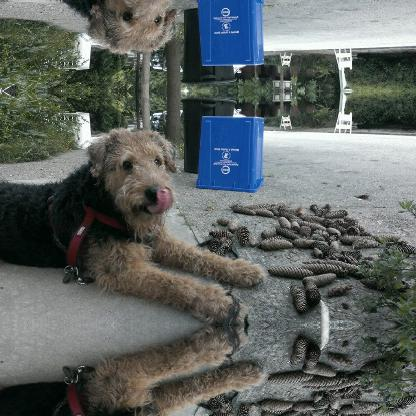Dog: (0, 122, 269, 324), (0, 324, 269, 415), (0, 0, 269, 58)
